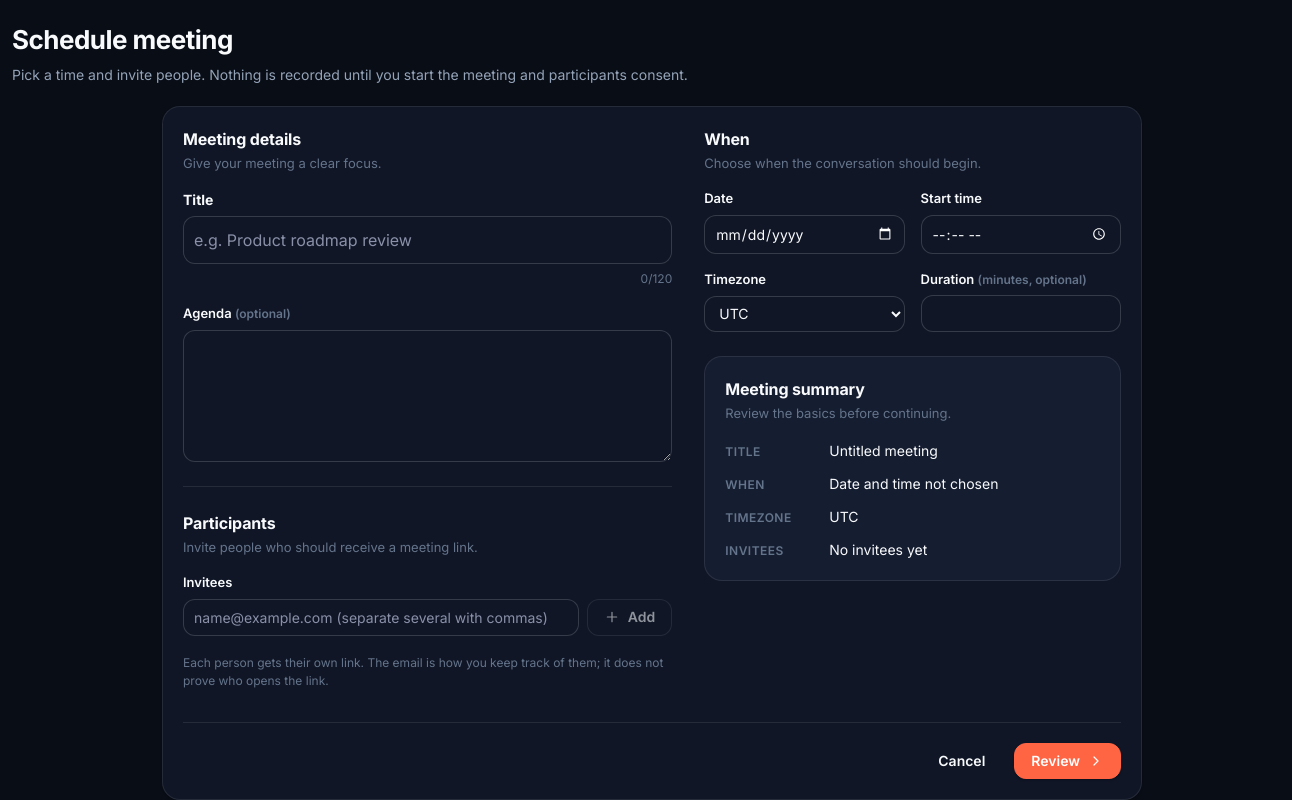
Test: Schedule meeting form › asks for a title and time before the review step
Click the button "Review" at (1068, 761), box [1014, 743, 1121, 779]
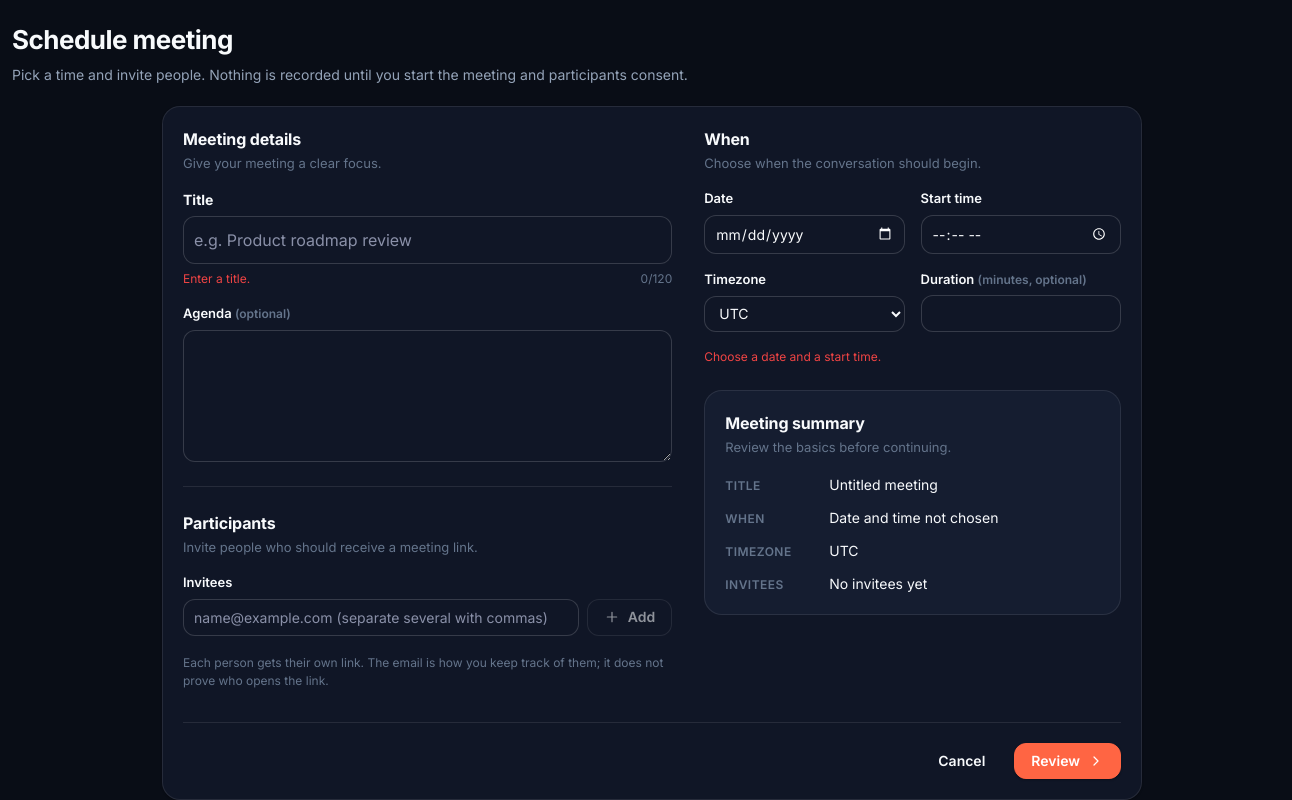
Expected: the text "Enter a title." is shown, [183, 270, 250, 288]
Expected: the text "Choose a date and a start time." is shown, [704, 349, 881, 364]
